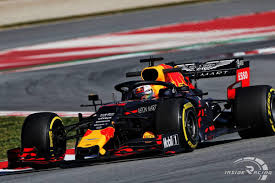FormulaOneCar: (3, 52, 275, 172)
